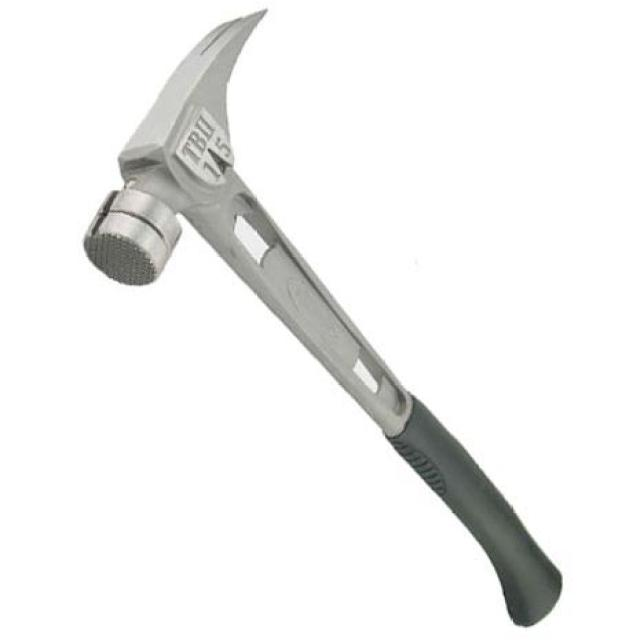hammer: (85, 11, 559, 626)
